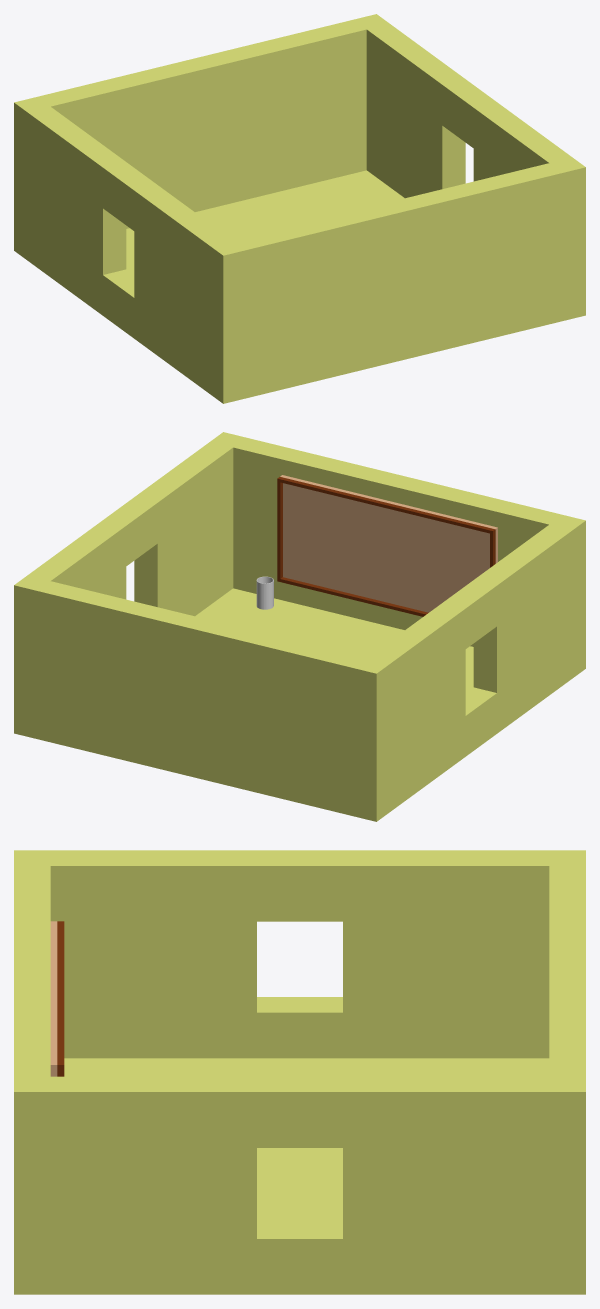
3 views of the same model, one above another, from view 1: azimuth 30°, elevation 25°; view 2: azimuth 150°, elevation 25°; view 3: azimuth 270°, elevation 25° (orthographic). The views are drawn at different scales.
Visible parts, largest first — view 1: Room; view 2: Room, bbBack, bbFrame, Cylinder; view 3: Room, bbBack, bbFrame.
Part boxes in pixels (x1,y1,x2,y2): Room: (14, 14, 585, 403); Room: (14, 432, 585, 821); bbBack: (280, 475, 497, 612); bbFrame: (277, 477, 495, 616); Cylinder: (256, 576, 273, 609); Room: (14, 850, 585, 1294); bbBack: (50, 921, 57, 1076); bbFrame: (57, 921, 64, 1076).
Size of the model in its own units: 9.41 by 3.68 by 9.41.
